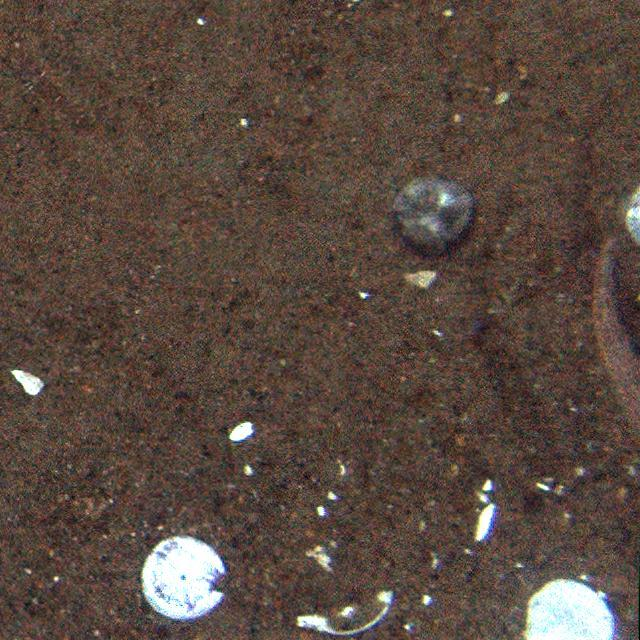roundfish: (586, 226, 640, 471)
